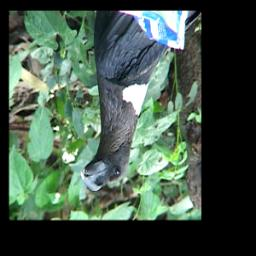Crow: (79, 11, 178, 190)
